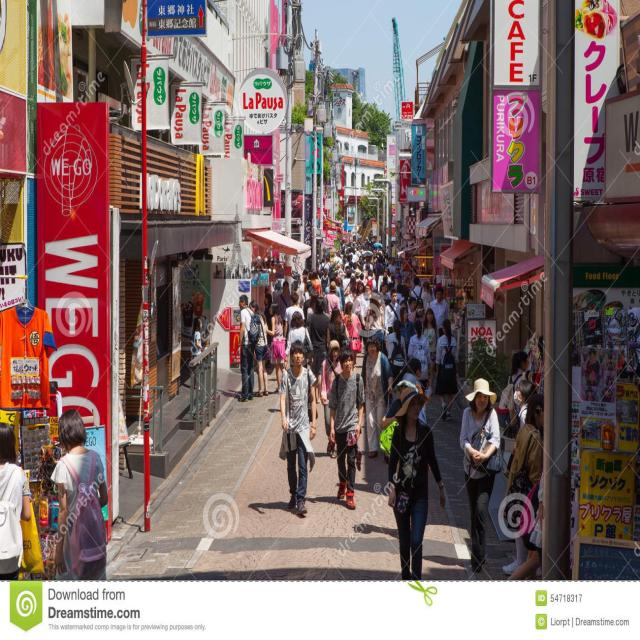body: (271, 226, 450, 300), (387, 385, 447, 581), (49, 408, 109, 580), (457, 375, 505, 575), (277, 338, 318, 518), (505, 392, 544, 581), (501, 379, 538, 577), (327, 343, 367, 510), (577, 330, 632, 424), (0, 420, 32, 581), (359, 333, 395, 463), (497, 349, 529, 482), (506, 468, 544, 580), (235, 292, 261, 404), (434, 316, 460, 422), (320, 338, 344, 442), (309, 296, 331, 406), (264, 300, 288, 394), (248, 298, 270, 399), (406, 318, 431, 394), (284, 310, 314, 371), (421, 307, 440, 395), (385, 317, 408, 388), (340, 300, 362, 372), (282, 290, 306, 346), (429, 286, 450, 338), (384, 288, 404, 342), (325, 306, 350, 348), (362, 309, 384, 355), (192, 316, 204, 394), (399, 306, 416, 357), (360, 284, 372, 346), (324, 280, 341, 316), (278, 280, 292, 320), (302, 286, 316, 324), (263, 292, 273, 344), (411, 276, 426, 310), (324, 272, 342, 300), (342, 274, 358, 305), (420, 280, 433, 312), (310, 268, 323, 298), (344, 280, 358, 306), (298, 274, 310, 304), (375, 256, 385, 290), (378, 280, 390, 308), (319, 267, 330, 297), (407, 296, 417, 322), (386, 256, 398, 276), (317, 257, 327, 279), (362, 255, 374, 273), (344, 255, 355, 273), (323, 256, 332, 272), (356, 280, 364, 297), (333, 262, 342, 274), (400, 300, 408, 310)
